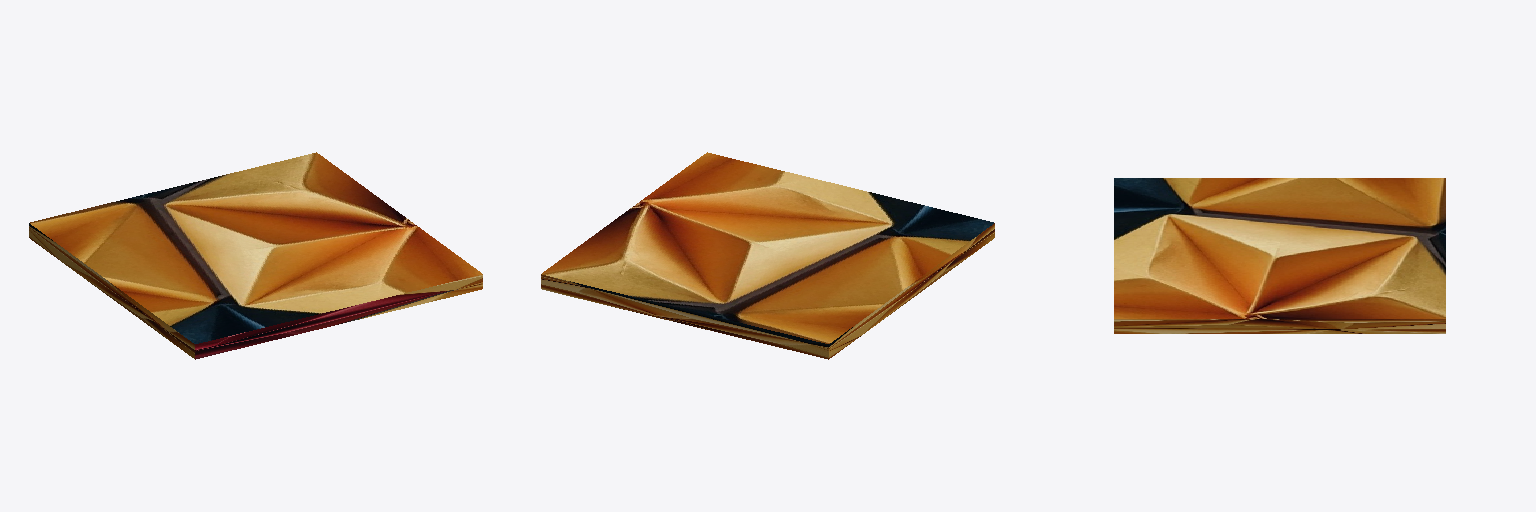
3 views of the same model, side by side, from view 1: azimuth 30°, elevation 25°; view 2: azimuth 150°, elevation 25°; view 3: azimuth 270°, elevation 25° (orthographic).
Parts seen in each view (by area): view 1: Cube; view 2: Cube; view 3: Cube.
Part boxes in pixels (x1,y1,x2,y2): Cube: (29, 152, 482, 359); Cube: (541, 152, 994, 359); Cube: (1114, 178, 1445, 333).
Size of the model in its own units: 4 by 0.2 by 4.
1 materials, 1 textured.